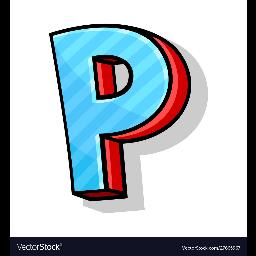p: (46, 19, 194, 205)
